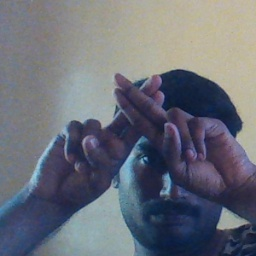F: (87, 67, 198, 170)
